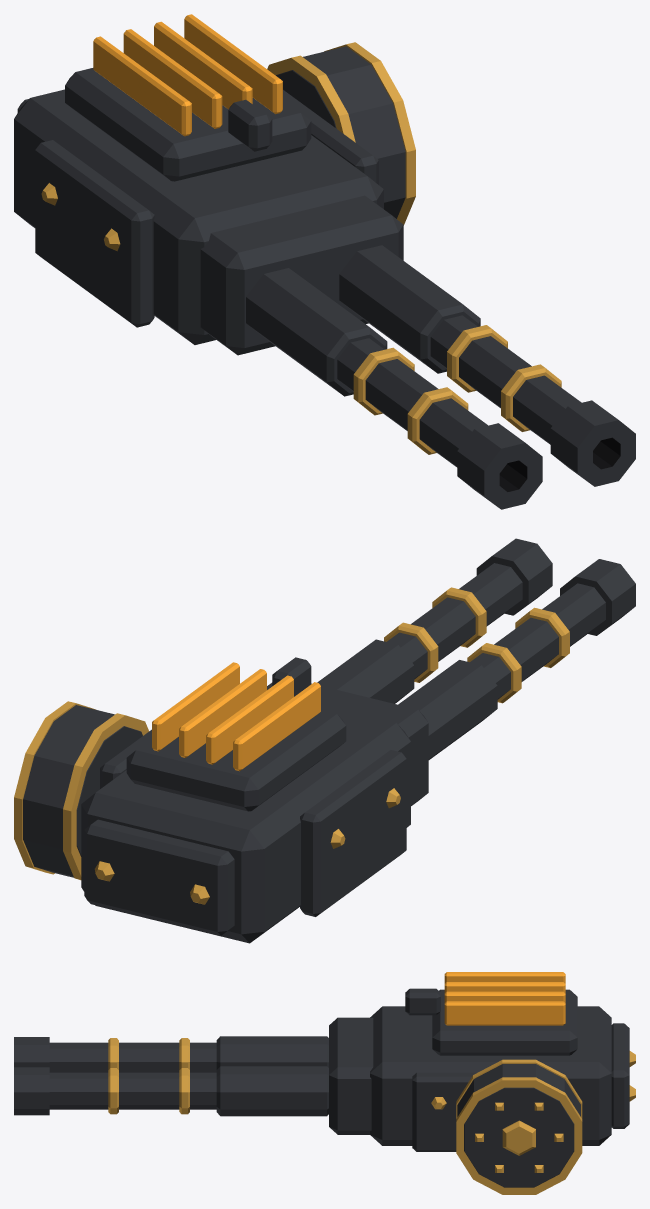
Rendered from GunA.obj.
The picture shows the model from 3 angles, top to bottom: view 1: azimuth 30°, elevation 25°; view 2: azimuth 150°, elevation 25°; view 3: azimuth 270°, elevation 25°; orthographic projection. The views are drawn at different scales.
Parts seen in each view (by area): view 1: GunA; view 2: GunA; view 3: GunA.
Part boxes in pixels (left/top/right/bottom): GunA: left=14, top=14, right=635, bottom=509; GunA: left=14, top=538, right=635, bottom=943; GunA: left=14, top=972, right=635, bottom=1194.
Bounding box in the file's own units: 0.8478 × 0.5428 × 2.1.
